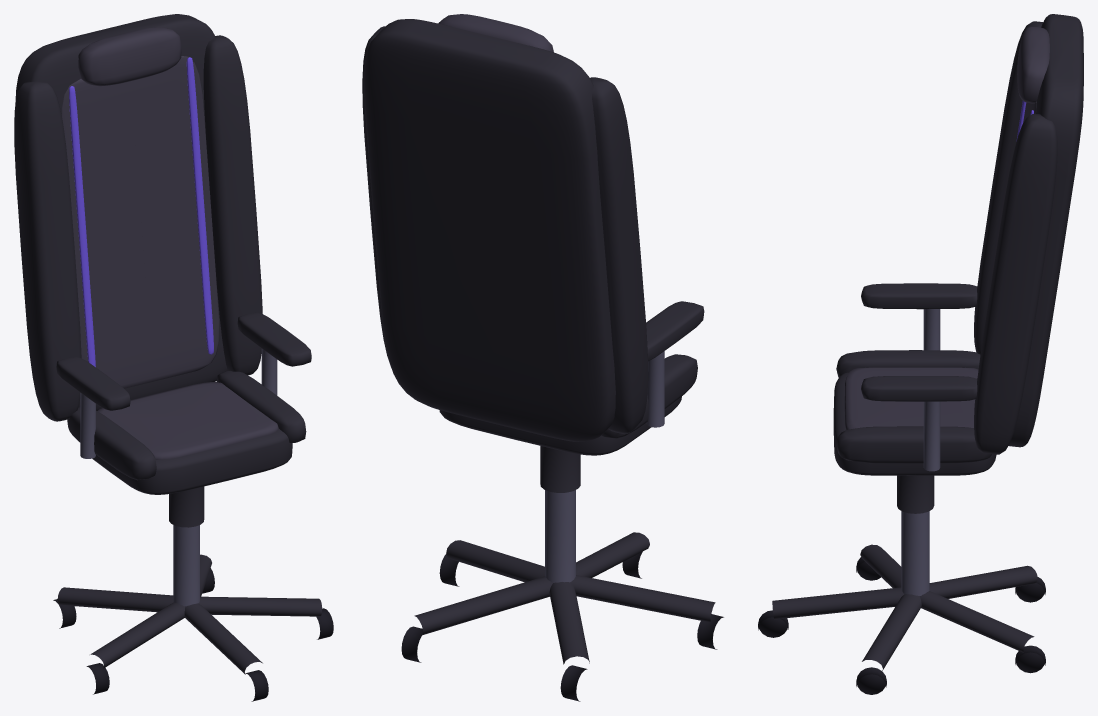
File: silla_gamer.glb
3 renders of one model, left to right at view 1: azimuth 30°, elevation 25°; view 2: azimuth 150°, elevation 25°; view 3: azimuth 270°, elevation 25°, orthographic. The views are drawn at different scales.
Visible parts, largest first — view 1: Chair; view 2: Chair; view 3: Chair.
Boxes of the visible parts, box(x1,y1,x2,y2) form: Chair: box(14, 14, 333, 701); Chair: box(362, 14, 723, 701); Chair: box(758, 14, 1083, 694).
Bounding box in the file's own units: 0.4511 × 1.04 × 0.5124.
